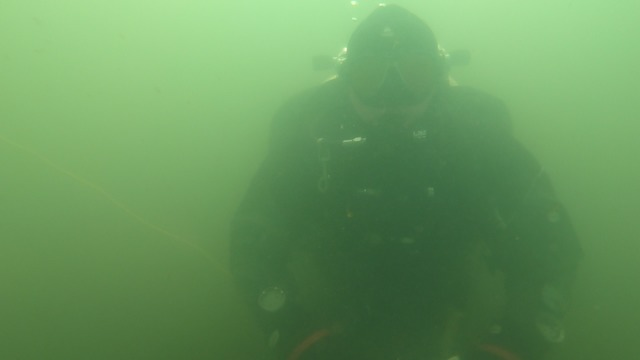Head: (331, 3, 476, 163)
